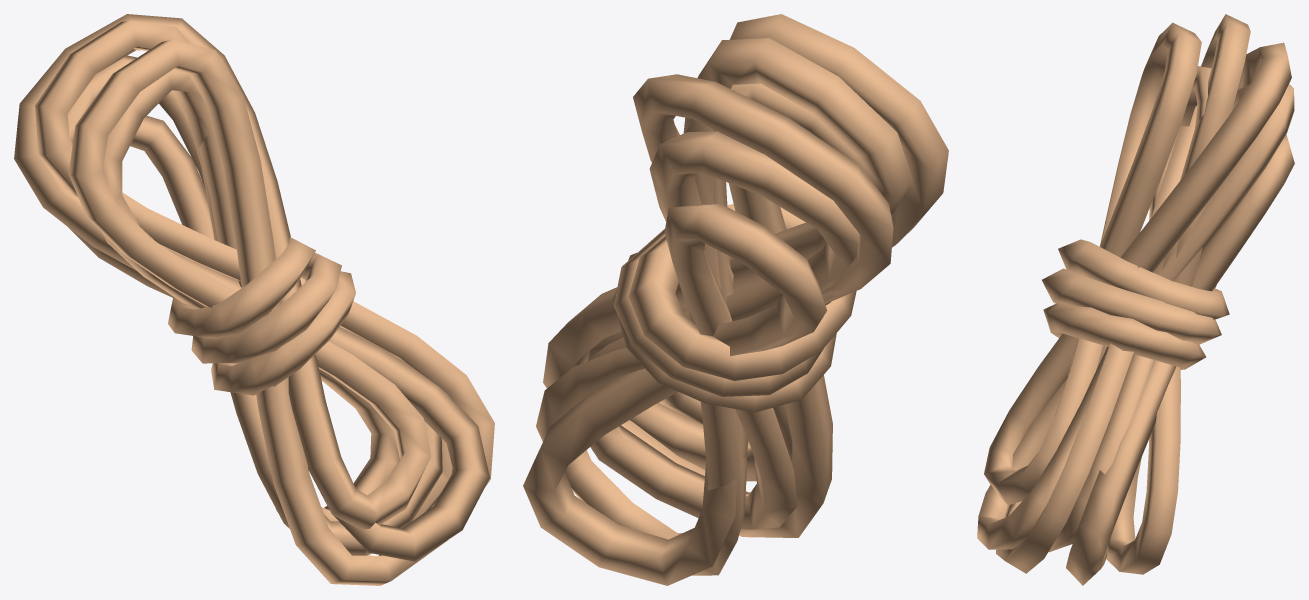
Rendered from g_cord.fbx.
The picture shows the model from 3 angles, left to right: view 1: azimuth 30°, elevation 25°; view 2: azimuth 150°, elevation 25°; view 3: azimuth 270°, elevation 25°; orthographic projection. The views are drawn at different scales.
Visible parts, largest first — view 1: g_cord; view 2: g_cord; view 3: g_cord.
Boxes of the visible parts, x1,y1,x2,y2 form: g_cord: (14,14,494,585); g_cord: (523,14,948,585); g_cord: (977,14,1294,585).
Bounding box in the file's own units: 46.29 × 36.07 × 61.33.
